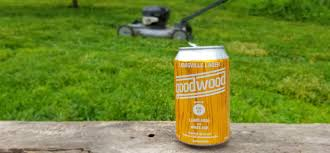can: (173, 45, 234, 147)
